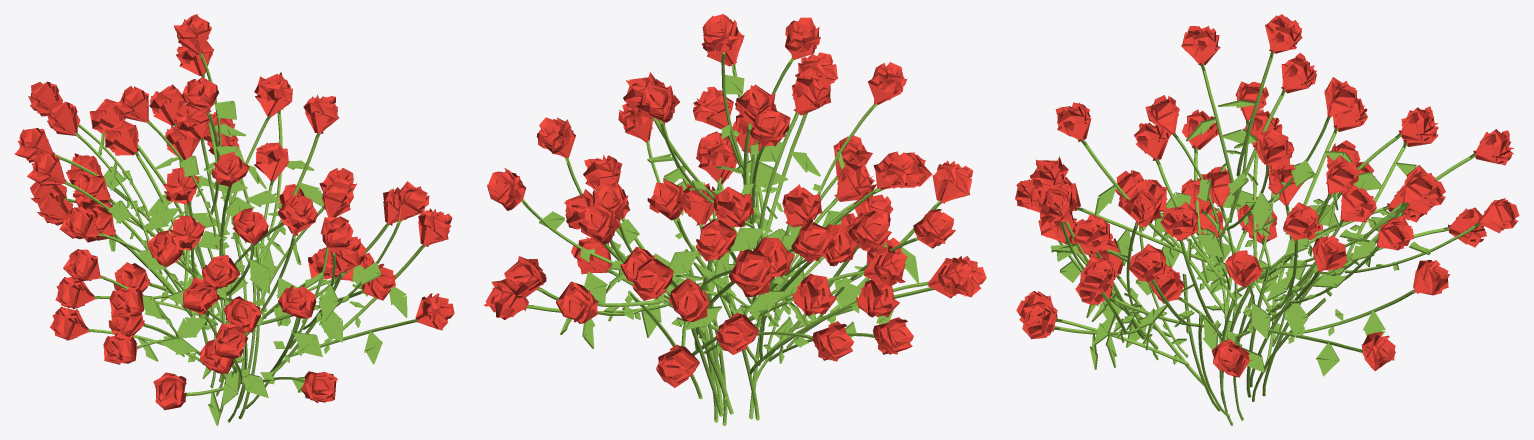
3 renders of one model, left to right at view 1: azimuth 30°, elevation 25°; view 2: azimuth 150°, elevation 25°; view 3: azimuth 270°, elevation 25°, orthographic. The views are drawn at different scales.
Bounding box in the file's own units: 2.14 × 2.41 × 2.75.
